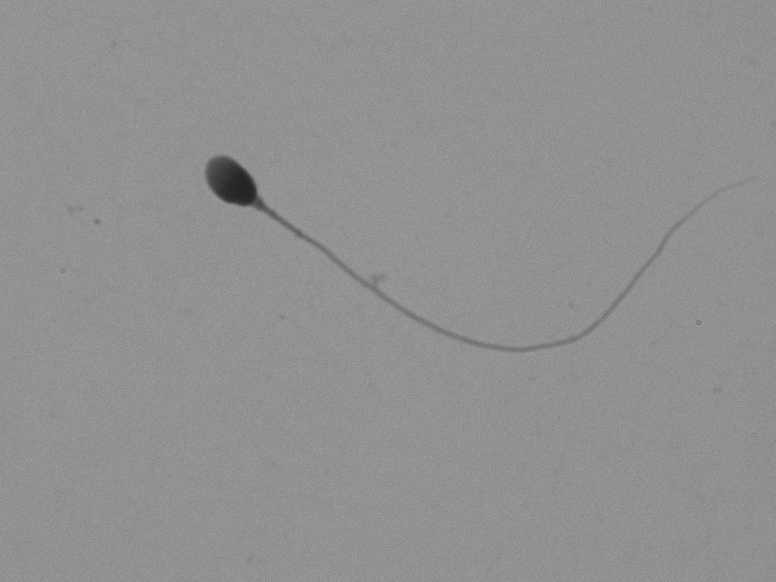Normal: (162, 100, 746, 395)
